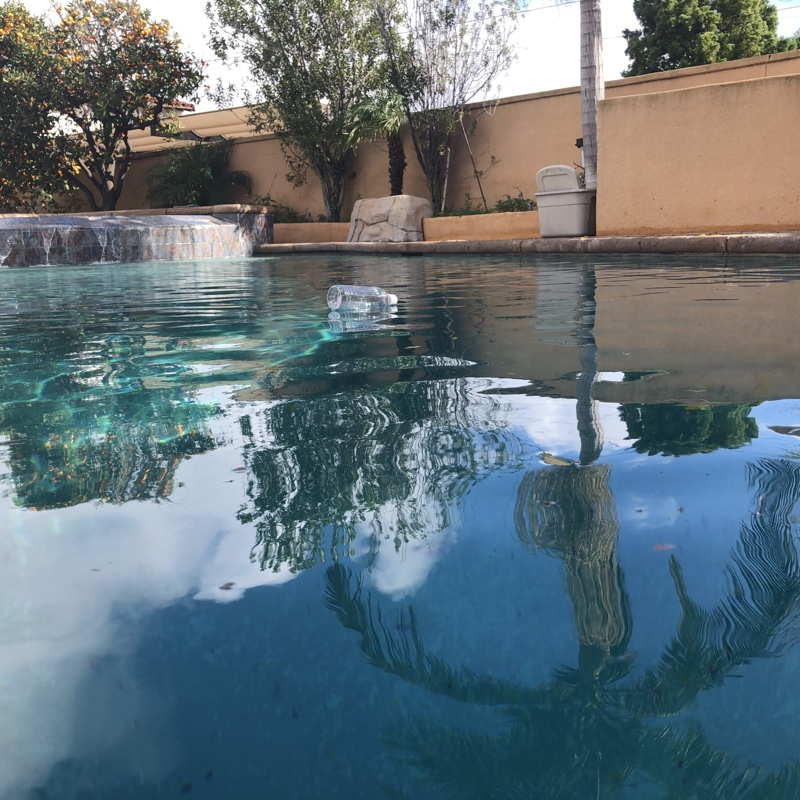Plastic Bottle: (324, 283, 401, 315)
